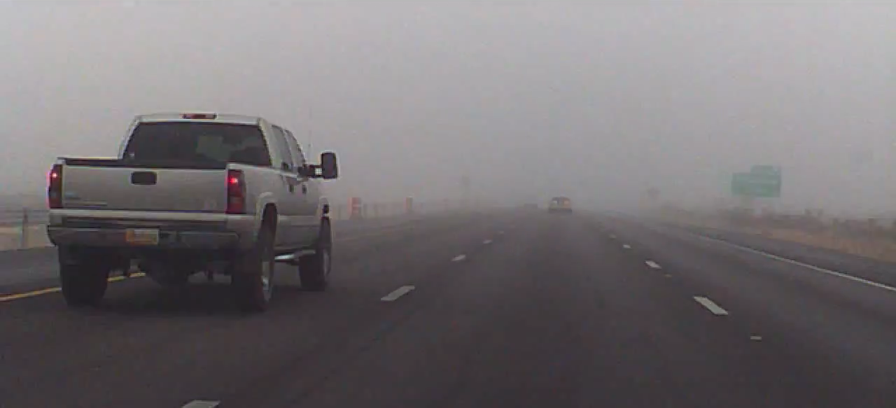car: (45, 109, 340, 311), (548, 194, 572, 213)
